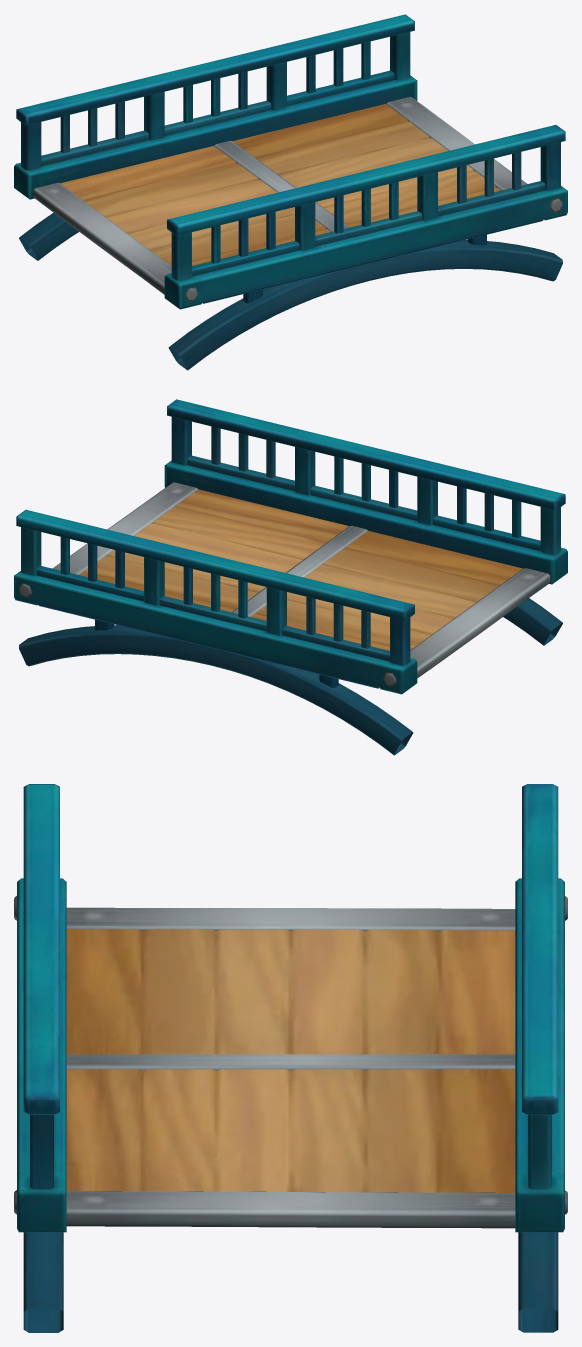
File: bridge-iron.glb
The picture shows the model from 3 angles, top to bottom: view 1: azimuth 30°, elevation 25°; view 2: azimuth 150°, elevation 25°; view 3: azimuth 270°, elevation 25°; orthographic projection. The views are drawn at different scales.
Bounding box in the file's own units: 37.4 × 13.57 × 27.8.
Materials: 1 (1 with a texture image).
